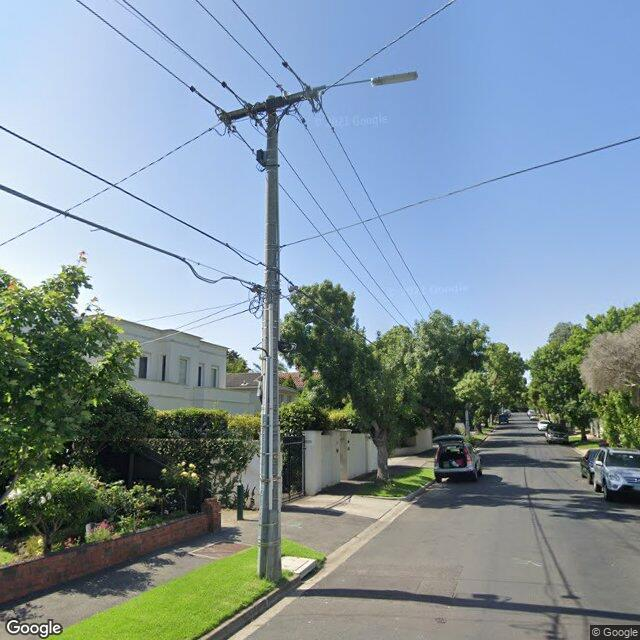crossarm: (190, 61, 328, 136)
streetlight: (327, 70, 419, 92)
timber-pole: (256, 94, 282, 580)
